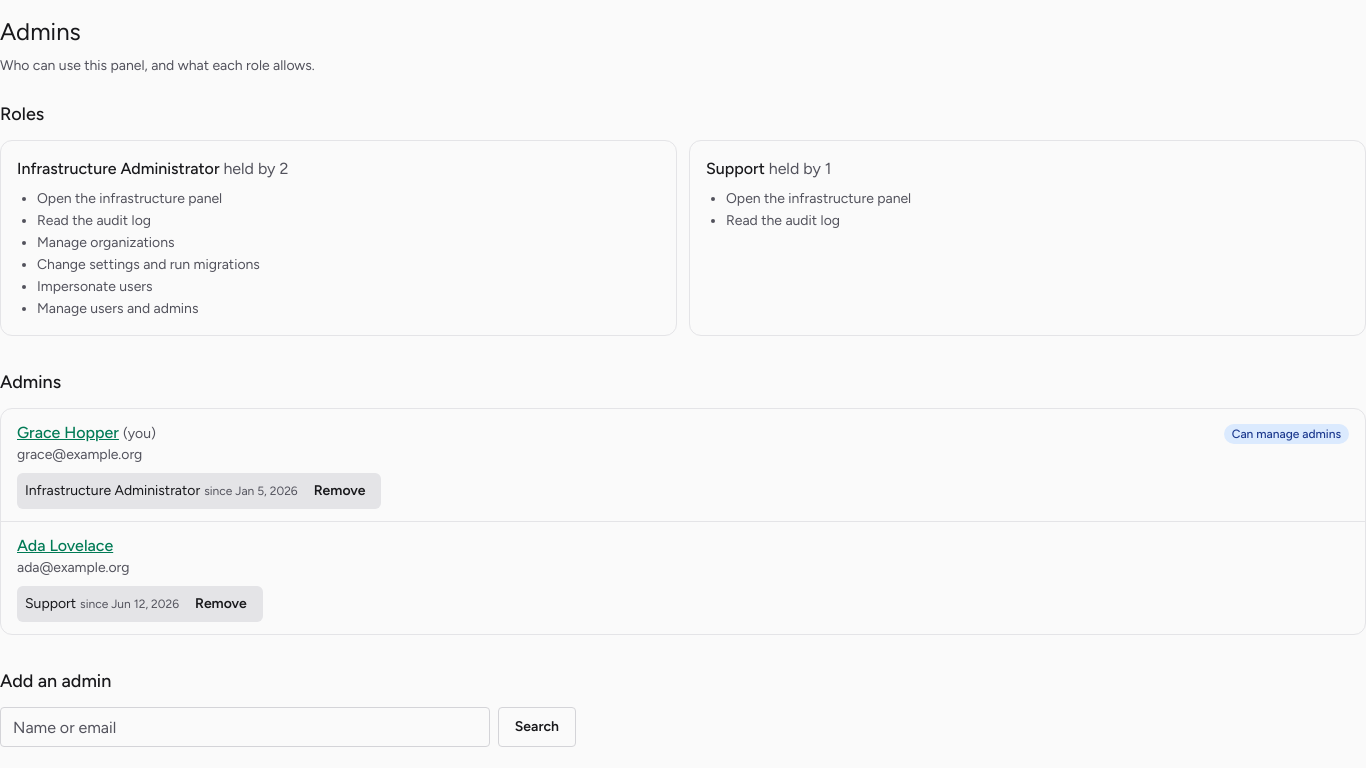
it: InfraAdminsPage › shows why a removal was refused and keeps the dialog open
This screenshot has width=1366, height=768.
Click the button with aria-label "Remove Infrastructure Administrator from Grace Hopper".
click(340, 491)  # box [302, 475, 377, 507]
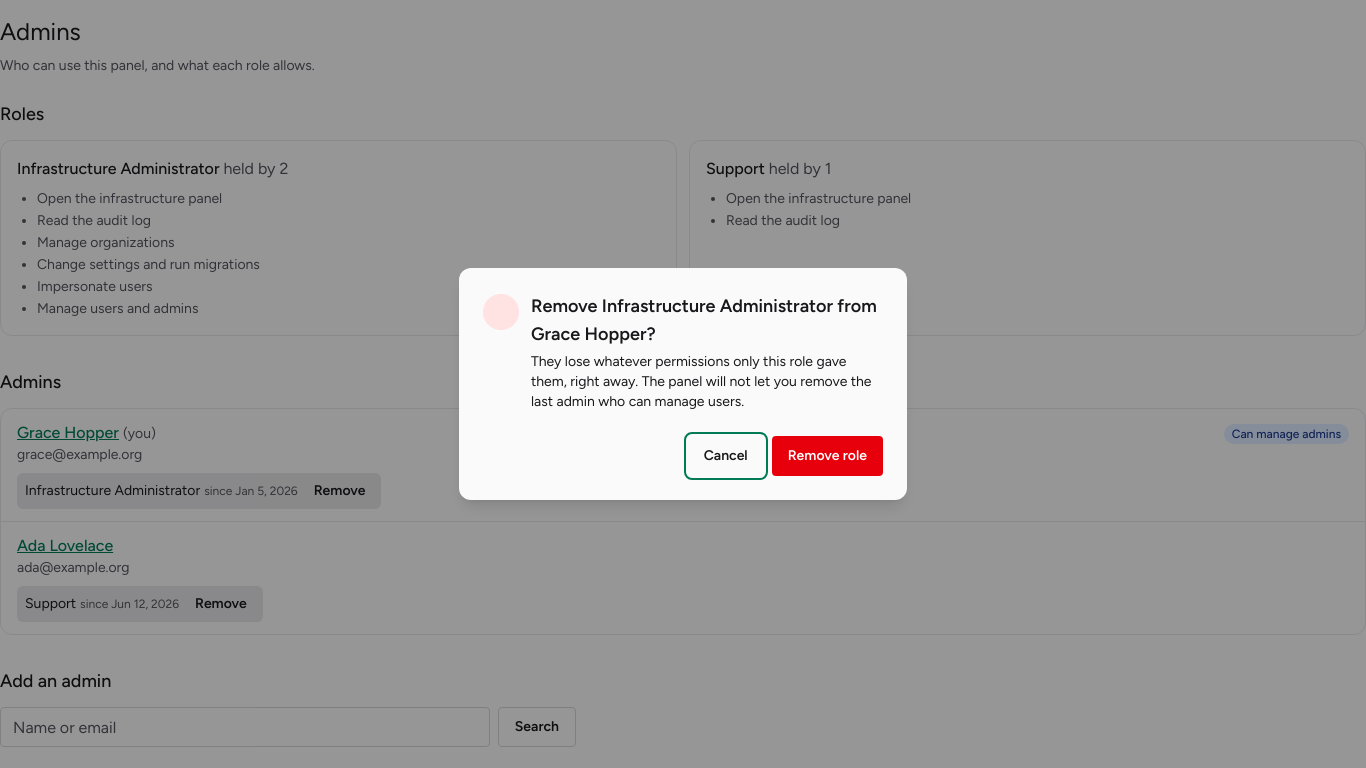
Click the button "Remove role".
click(827, 456)  # box [772, 436, 883, 476]
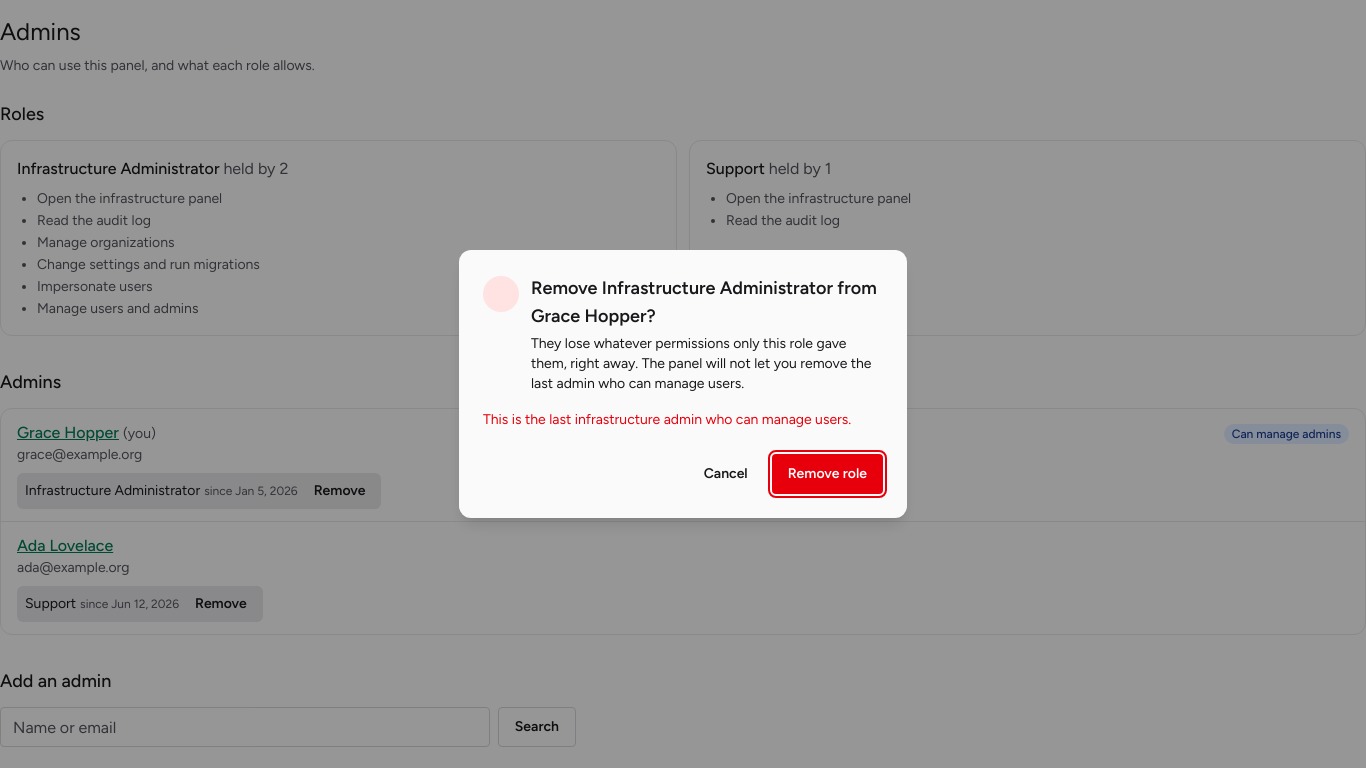
Expected: the text "This is the last infrastructure admin who can manage users." is shown, [483, 410, 883, 430]
